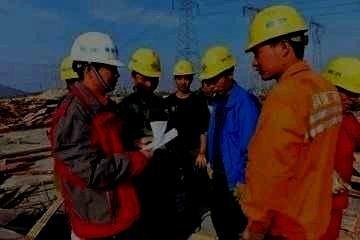helmet: (245, 4, 309, 80), (71, 31, 127, 94), (320, 54, 360, 110), (199, 45, 238, 98), (126, 46, 161, 94), (59, 55, 80, 92), (171, 60, 196, 91)
